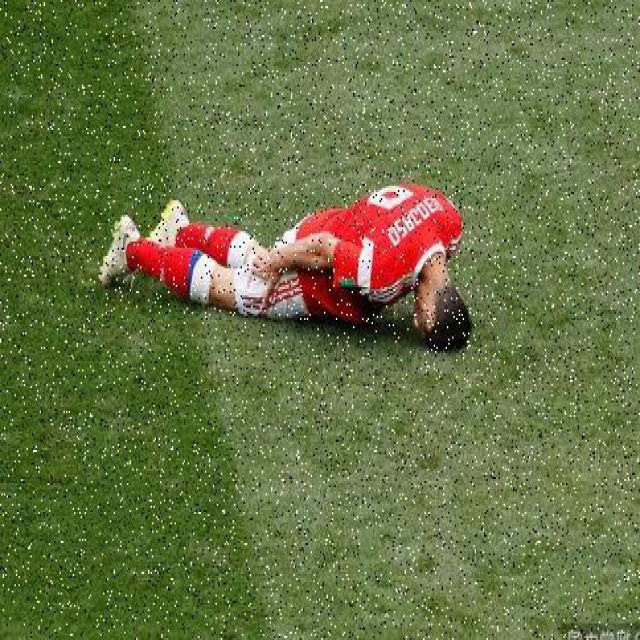fall: (96, 182, 472, 324)
